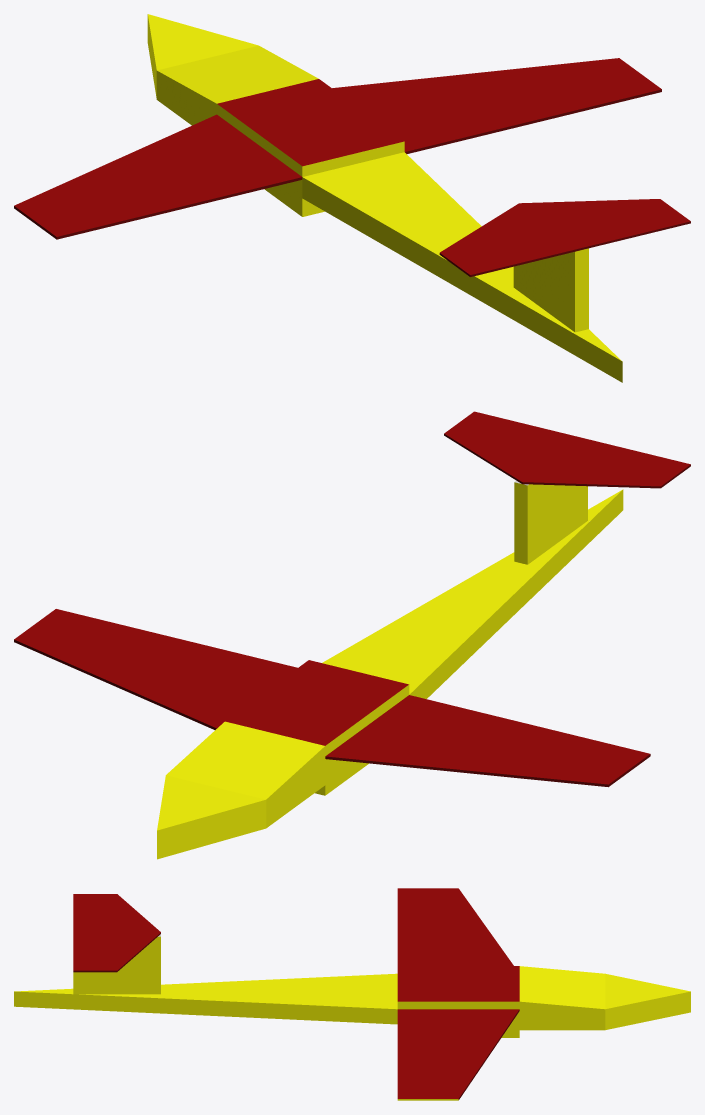
Rendered from block_plane_0.dae.
The picture shows the model from 3 angles, top to bottom: view 1: azimuth 30°, elevation 25°; view 2: azimuth 150°, elevation 25°; view 3: azimuth 270°, elevation 25°; orthographic projection. The views are drawn at different scales.
Parts seen in each view (by area): view 1: component_0 (×7); view 2: component_0 (×6); view 3: component_0 (×5).
Boxes of the visible parts, <box> form: component_0 (×7): <box>14,14,690,382</box>; component_0 (×6): <box>14,411,690,859</box>; component_0 (×5): <box>14,888,690,1098</box>.
Bounding box in the file's own units: 93.31 × 127 × 18.11.
